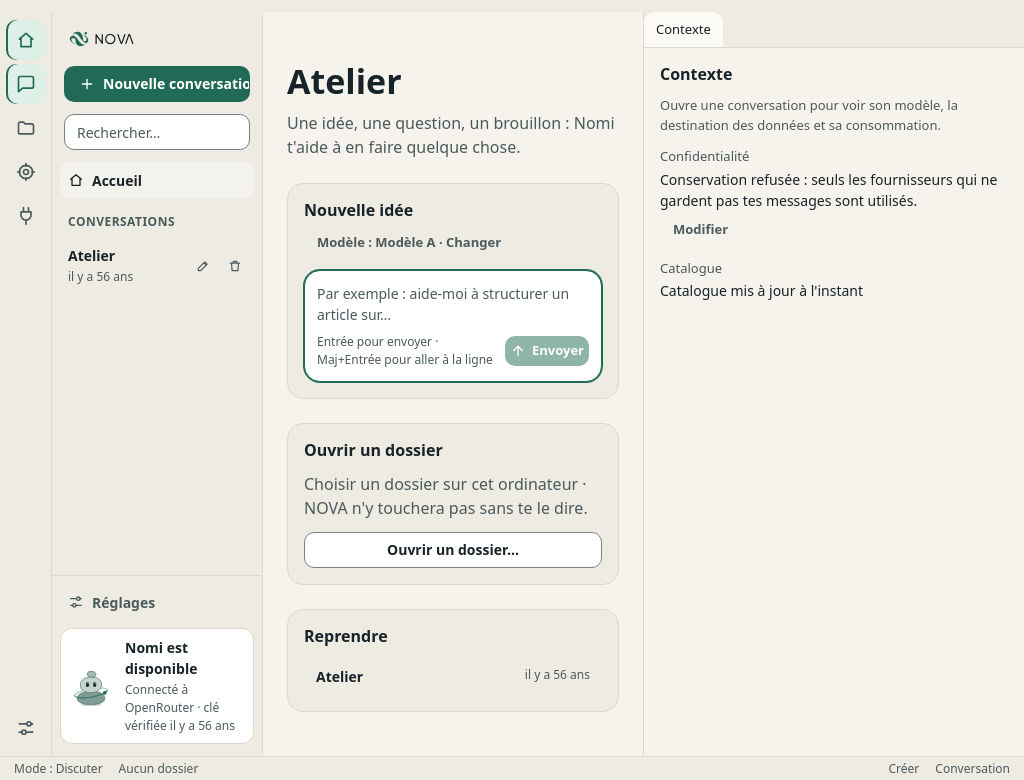
Scenario: no provider available (HTTP 503) › adds the data policy as a secondary hint when retention is refused or the provider names it
Click the button "Atelier il y a 56 ans" below "Conversations" at (124, 266), box [60,237,188,294]
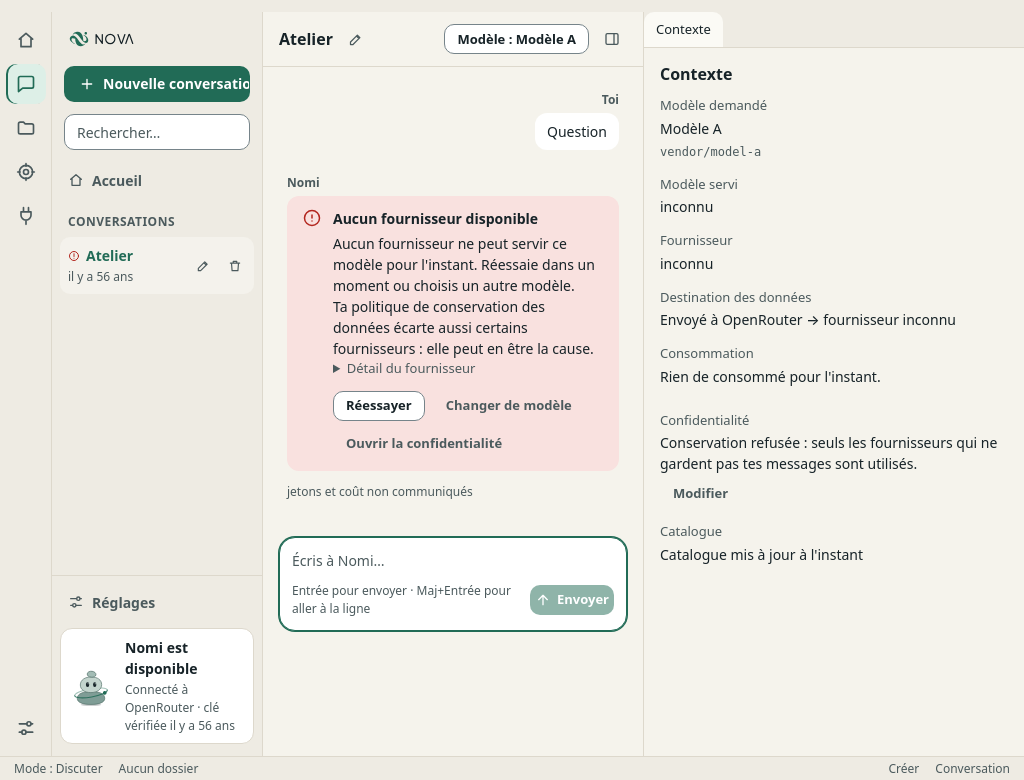
Expected: the text "politique de conservation des données écarte aussi" is shown, [333,297,594,358]
Expected: the button "Changer de modèle" is shown, [433,390,585,420]
Expected: the button "Ouvrir la confidentialité" is shown, [333,428,515,458]
